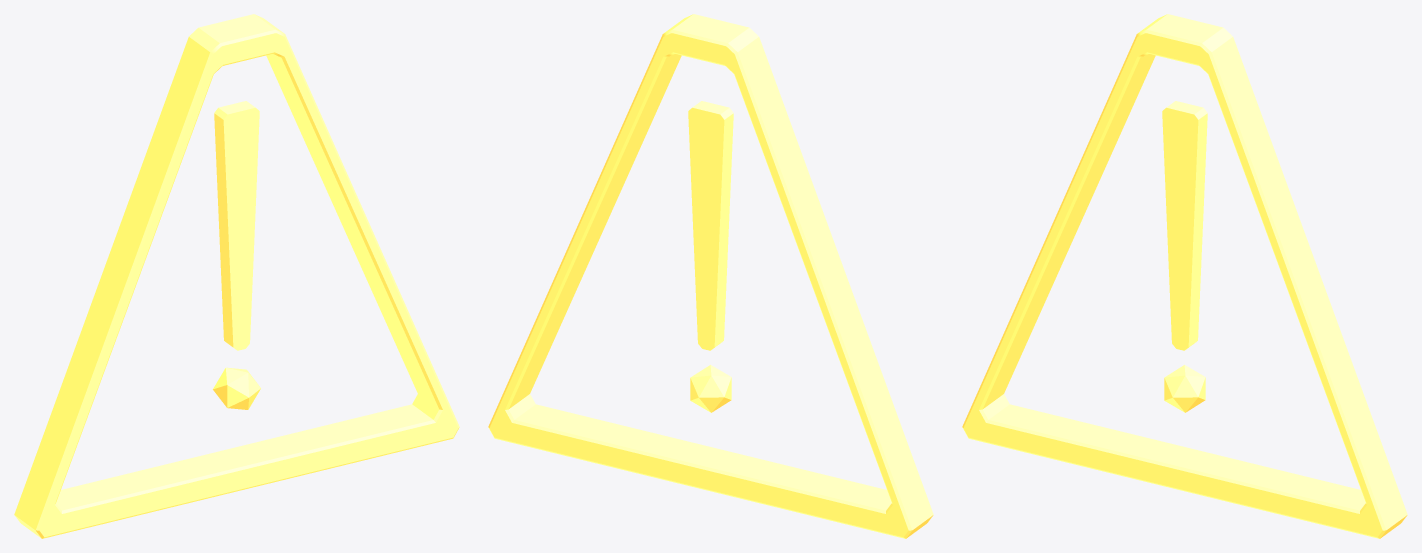
File: Cartel Warning synth.fbx
The picture shows the model from 3 angles, left to right: view 1: azimuth 30°, elevation 25°; view 2: azimuth 150°, elevation 25°; view 3: azimuth 330°, elevation 25°; orthographic projection.
Parts seen in each view (by area): view 1: Marco, Barra, Punto; view 2: Marco, Barra, Punto; view 3: Marco, Barra, Punto.
Boxes of the visible parts, x1,y1,x2,y2 form: Marco: (14, 14, 459, 538); Barra: (214, 101, 259, 350); Punto: (213, 367, 260, 409); Marco: (488, 14, 933, 538); Barra: (688, 101, 733, 350); Punto: (690, 365, 731, 412); Marco: (962, 14, 1407, 538); Barra: (1162, 101, 1207, 350); Punto: (1164, 365, 1205, 412).
Bounding box in the file's own units: 98.13 × 100 × 9.73.
